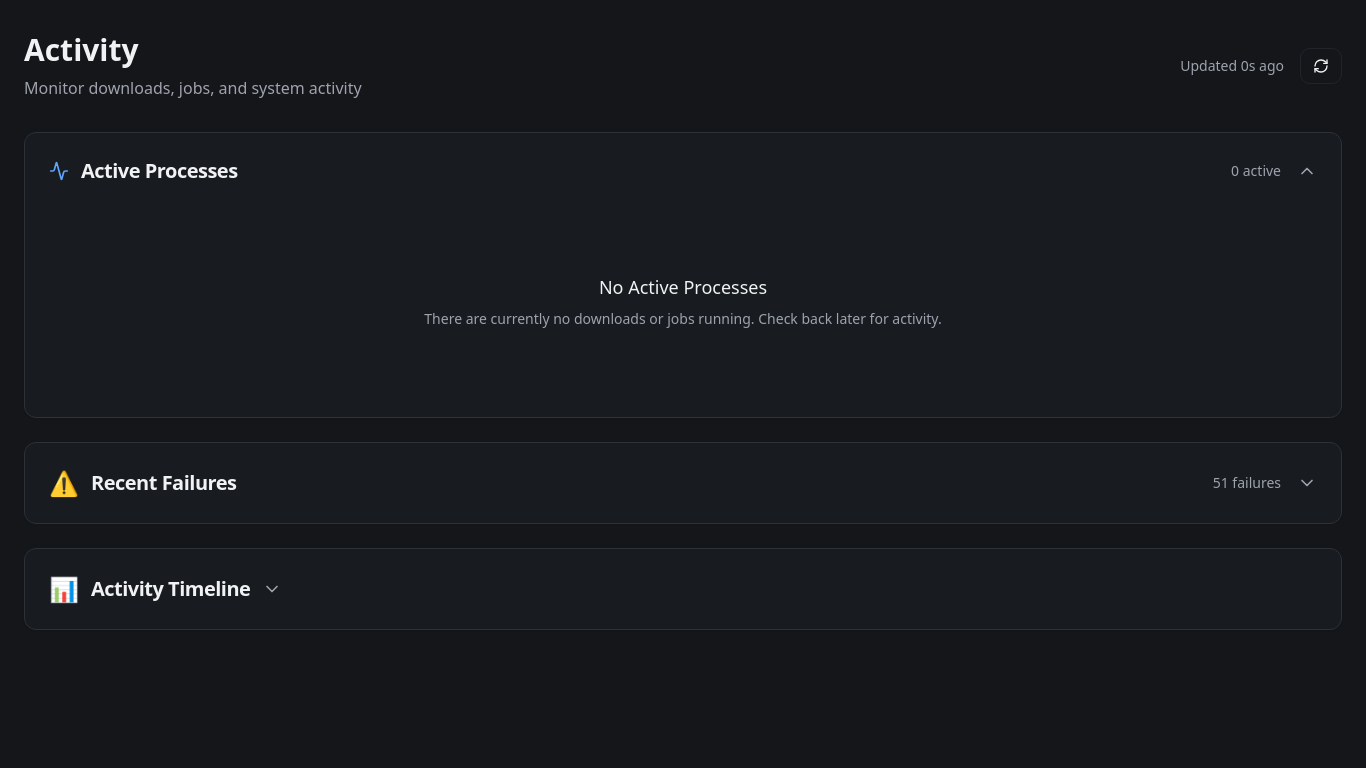
Test: Activity failure-page recovery › shows page-two errors and retries the selected page
This screenshot has width=1366, height=768.
Click the button "⚠️ Recent Failures 51 failures" at (164, 482), box [49,467,1317,499]
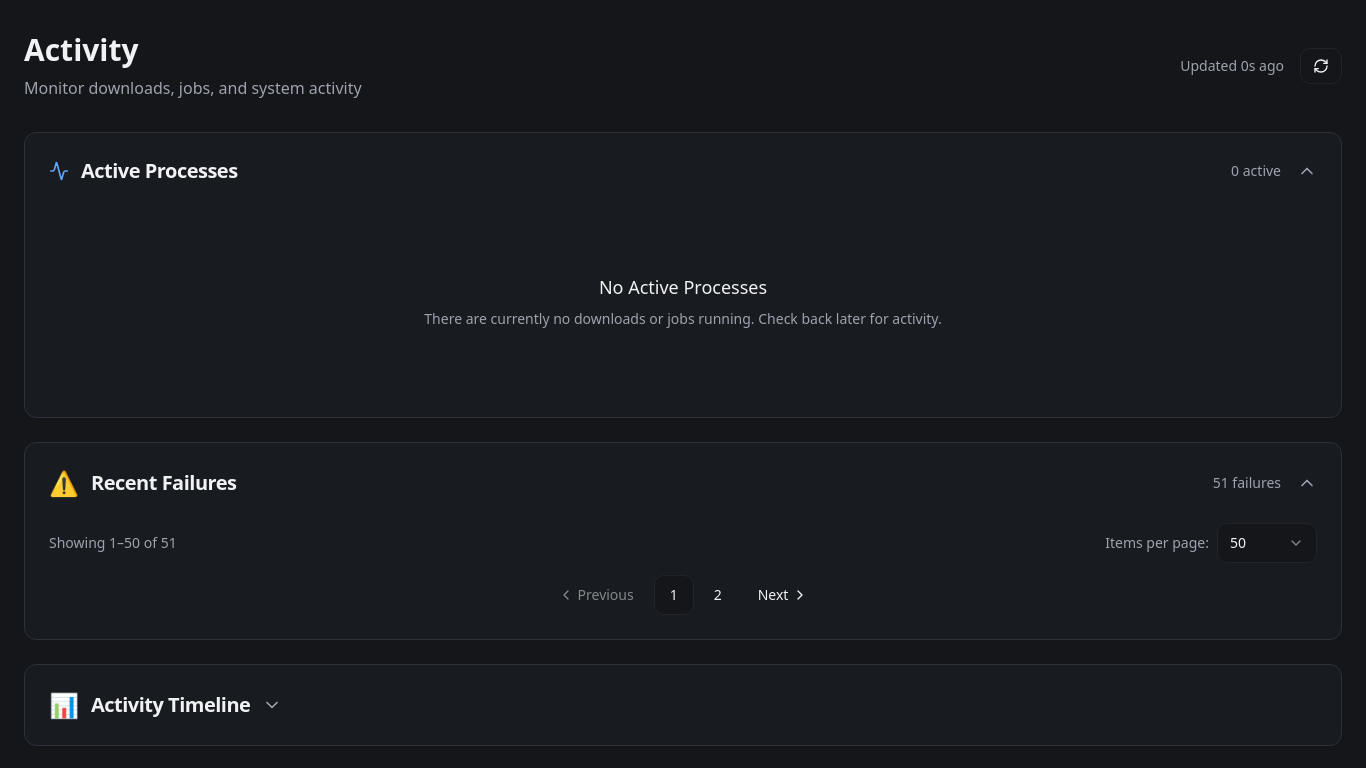
Click the button with aria-label "Go to next page" at (780, 595), box [742,575,818,615]
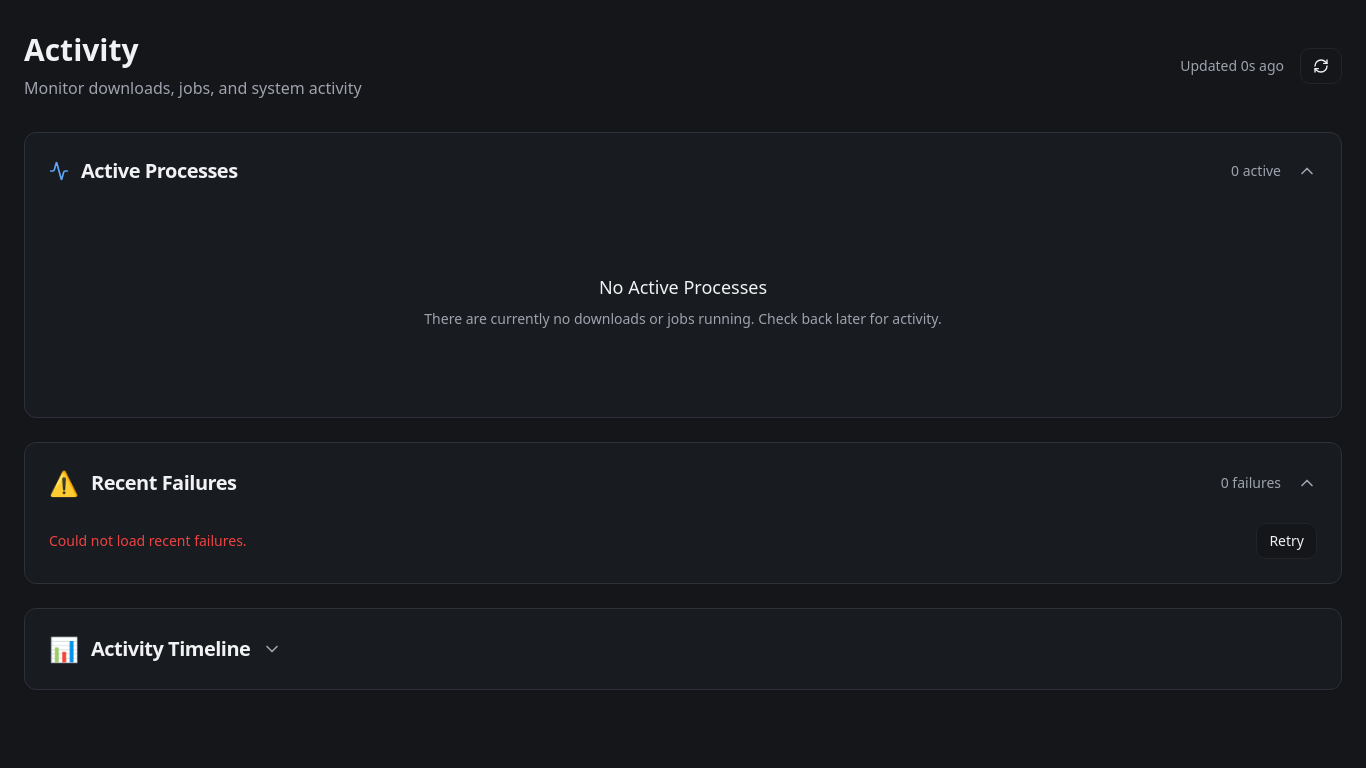
Expected: the text "0 active" is shown, [1231,161,1281,181]
Expected: the text "Could not load recent failures." is shown, [49,531,247,551]
Click the button "Retry" at (1287, 541), box [1256,523,1317,559]
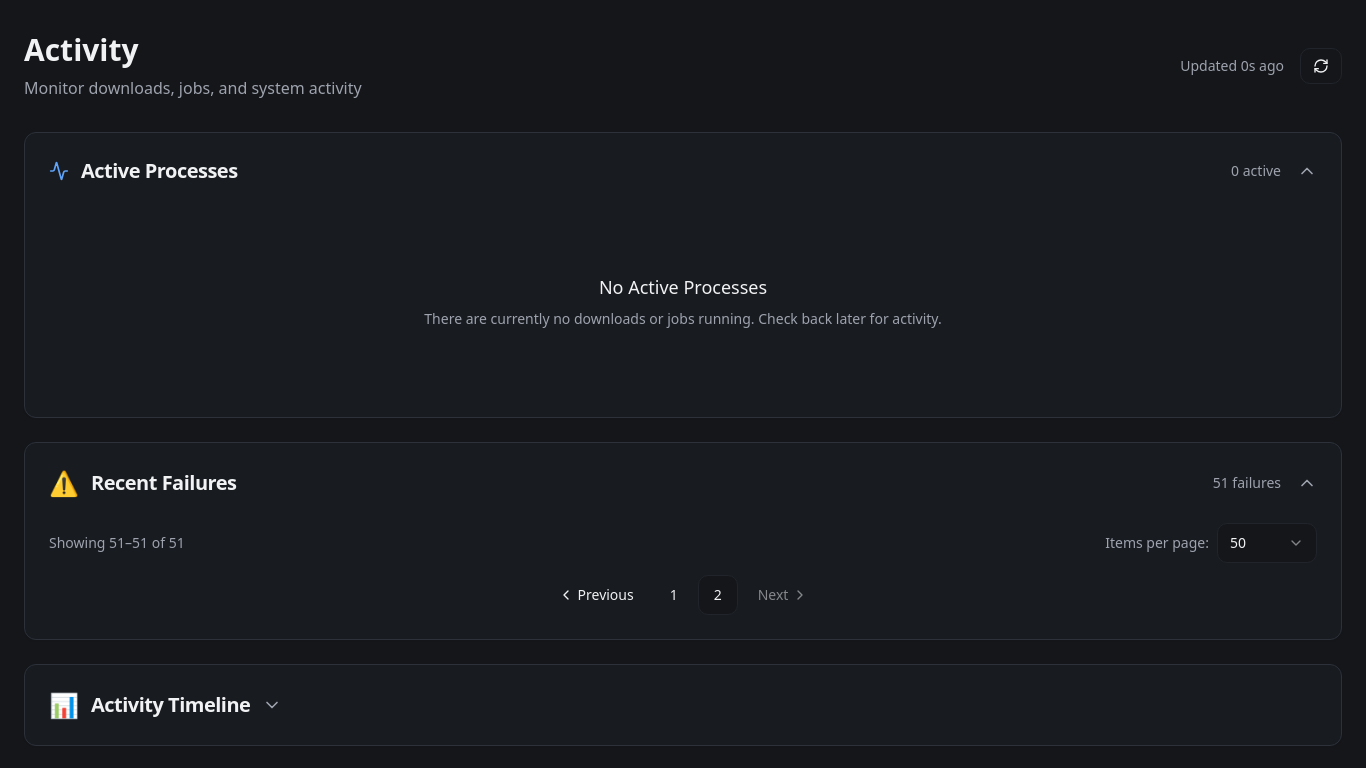
Expected: the text "51 failures" is shown, [1213,473,1281,493]
Expected: the button with aria-label "Go to previous page" is shown, [548,575,650,615]
